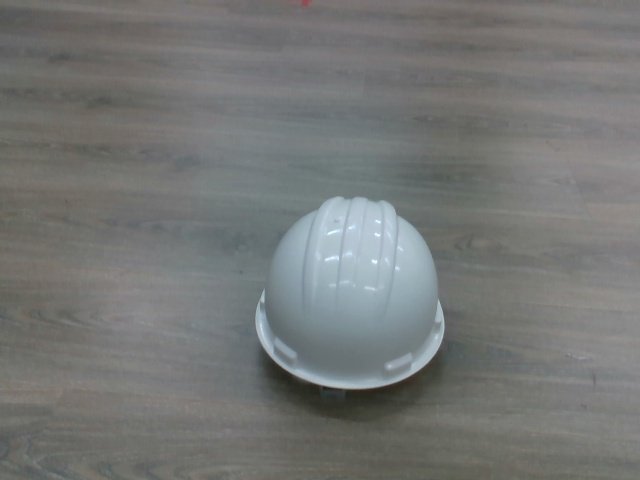helmet: (253, 191, 455, 396)
